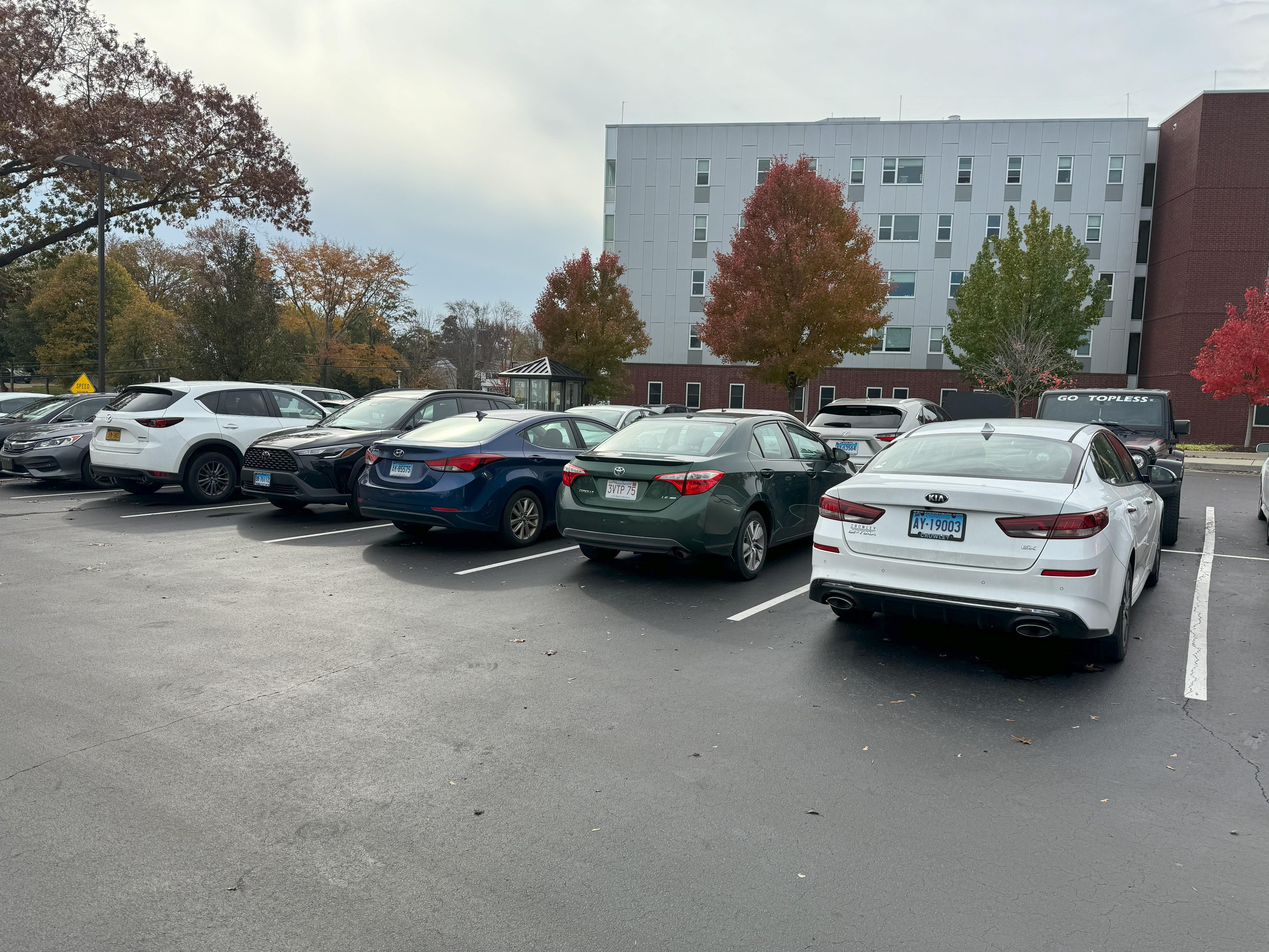occupied: (825, 403, 1194, 677), (565, 378, 846, 664), (367, 385, 569, 560), (87, 369, 279, 528), (258, 389, 414, 504), (18, 389, 107, 480)
